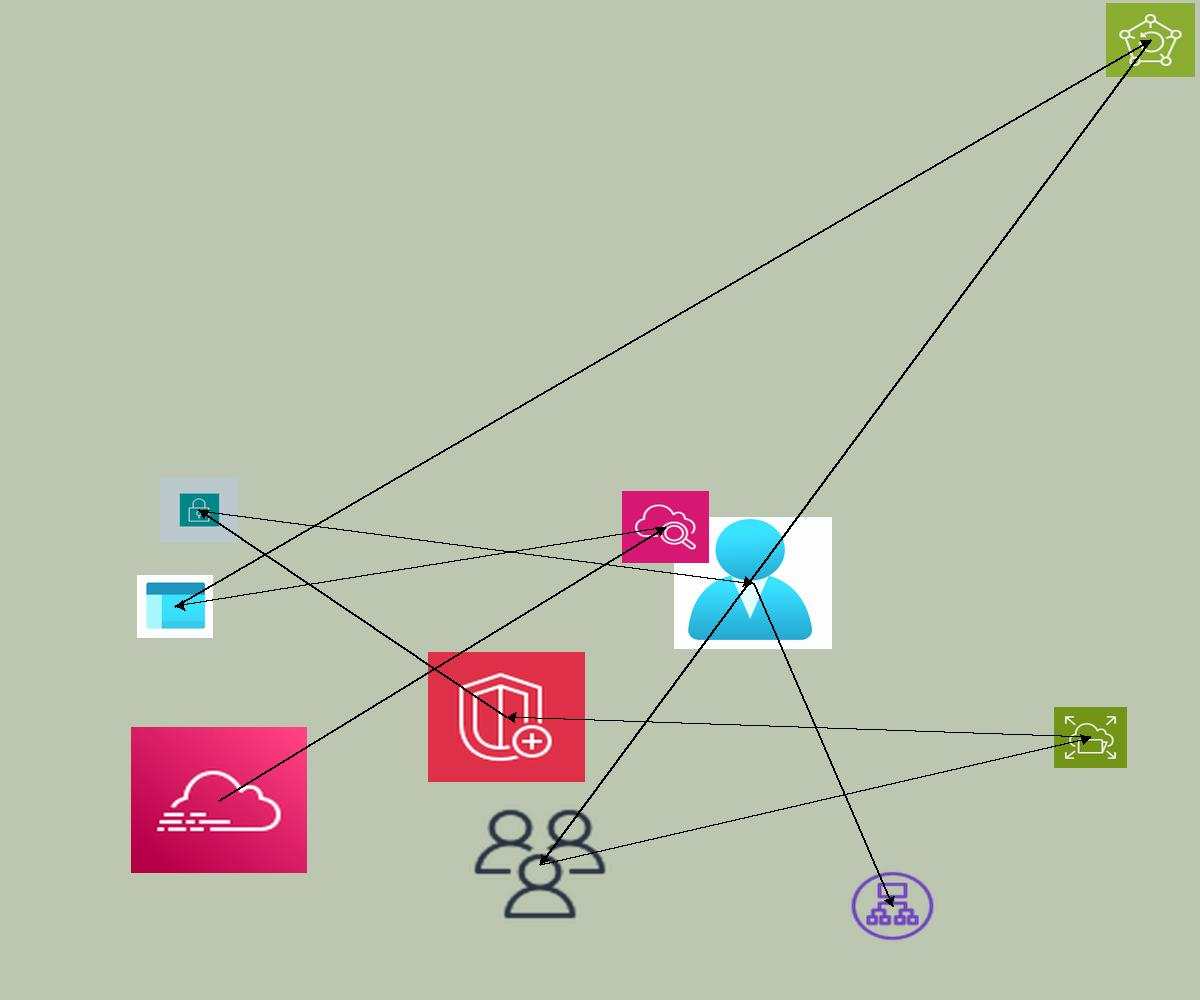AWS-Backup: (1106, 3, 1195, 77)
AWS-CloudTrail: (131, 727, 307, 873)
AWS-CloudWatch: (622, 491, 709, 563)
AWS-EFS: (1054, 707, 1127, 768)
AWS-Private-subnet: (160, 477, 239, 543)
AWS-Res_Elastic-Load-Balancing_Application-Load-Balancer: (848, 869, 937, 943)
AWS-Res_Users: (469, 805, 611, 923)
AWS-Shield: (428, 652, 585, 782)
Azure_management-portal: (137, 575, 213, 638)
Azure_users: (674, 517, 832, 649)
